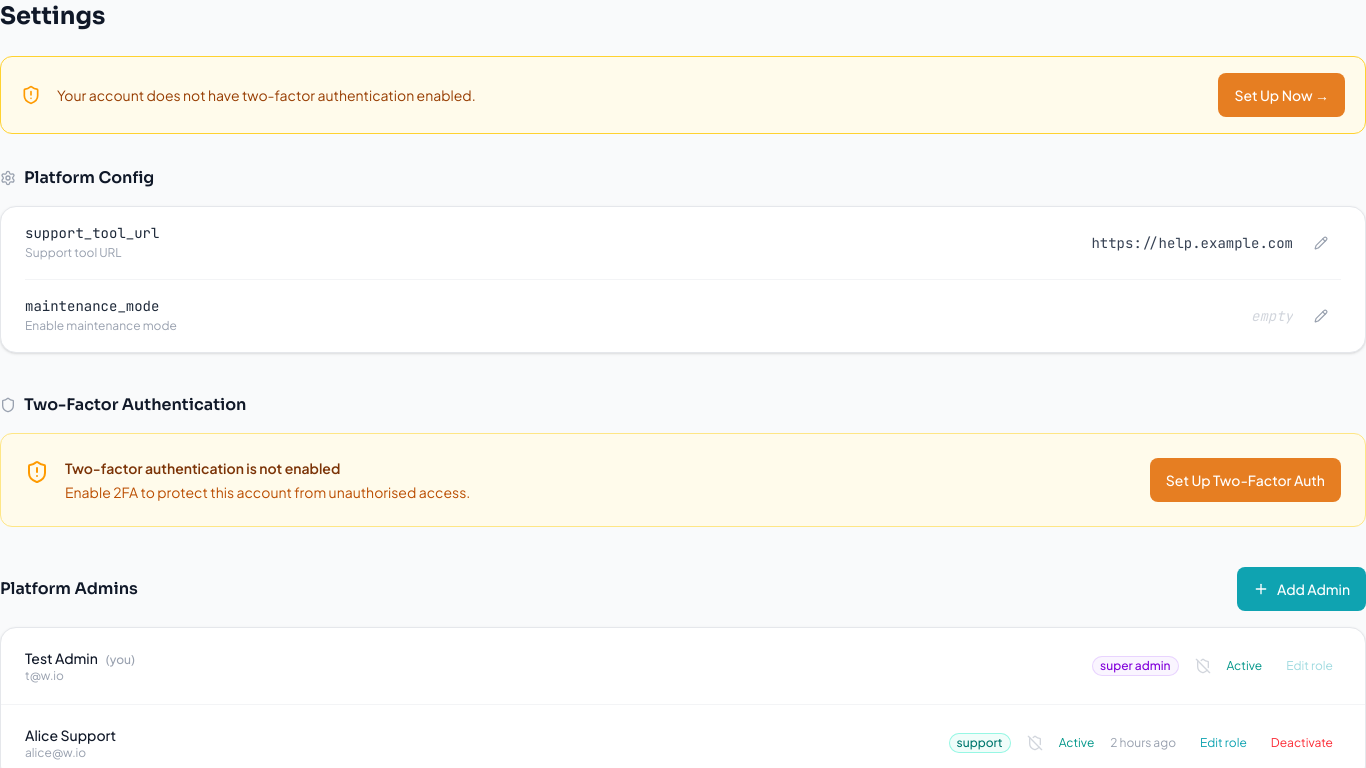
Settings page › opens invite admin modal when Add Admin is clicked
The image size is (1366, 768).
Expected: the text "Alice Support" is shown, [25, 726, 116, 744]
Click the button "Add Admin": (1302, 589) [1237, 567, 1365, 611]
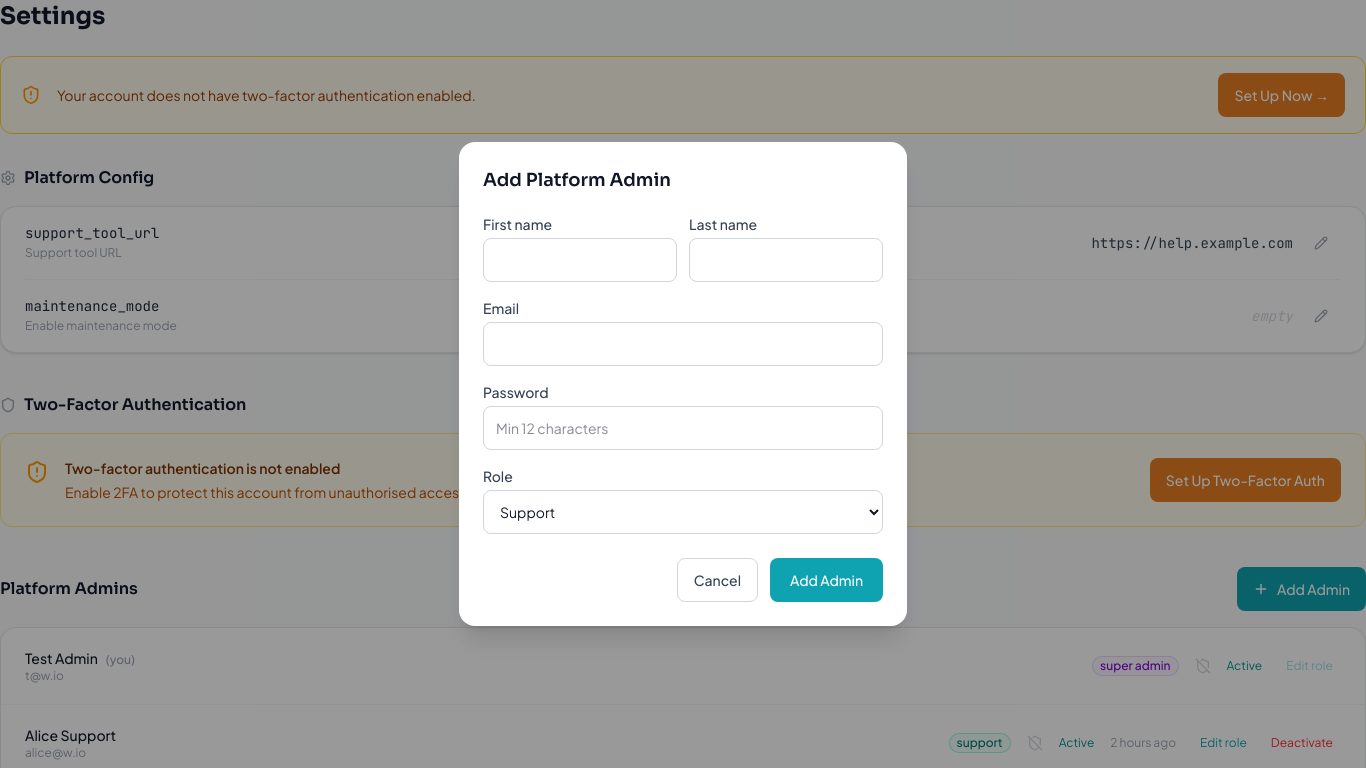
Result: the heading "Add Platform Admin" is shown at [483, 169, 671, 191]
